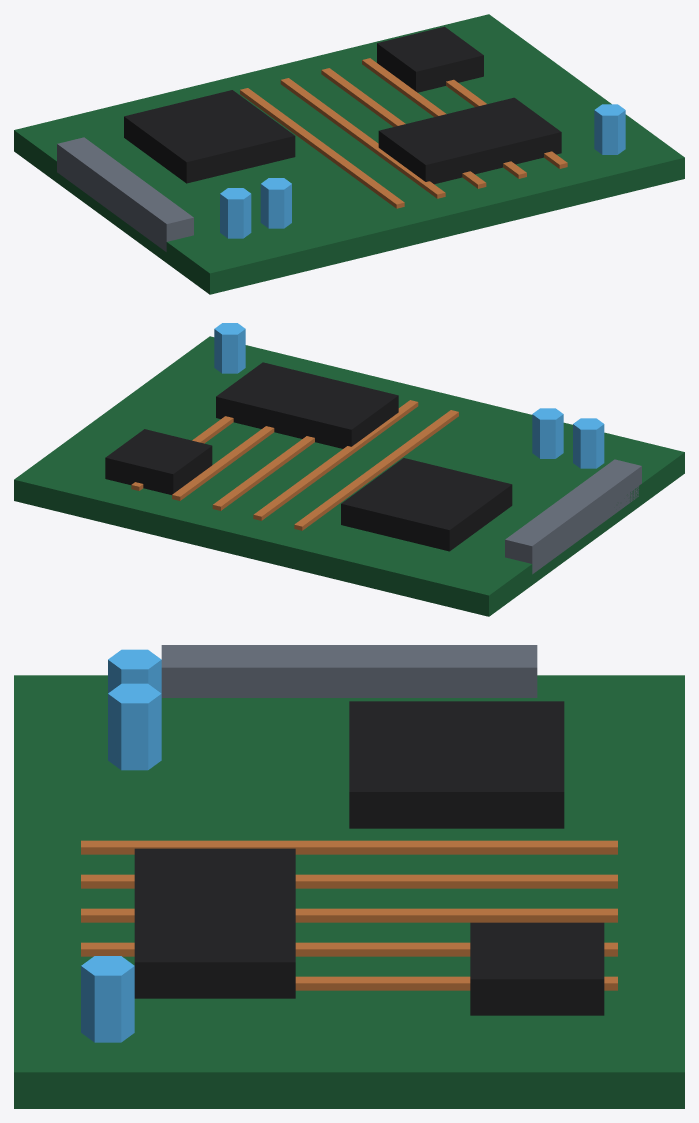
File: prop_lift_control_board.glb
3 renders of one model, top to bottom at view 1: azimuth 30°, elevation 25°; view 2: azimuth 150°, elevation 25°; view 3: azimuth 270°, elevation 25°, orthographic. The views are drawn at different scales.
Visible parts, largest first — view 1: prop_lift_control_board; view 2: prop_lift_control_board; view 3: prop_lift_control_board.
Boxes of the visible parts, left/top/right/bottom form: prop_lift_control_board: left=14, top=14, right=684, bottom=294; prop_lift_control_board: left=14, top=323, right=684, bottom=616; prop_lift_control_board: left=14, top=645, right=684, bottom=1108.
Bounding box in the file's own units: 0.35 × 0.0425 × 0.25.
Materials: 1 (1 with a texture image).
